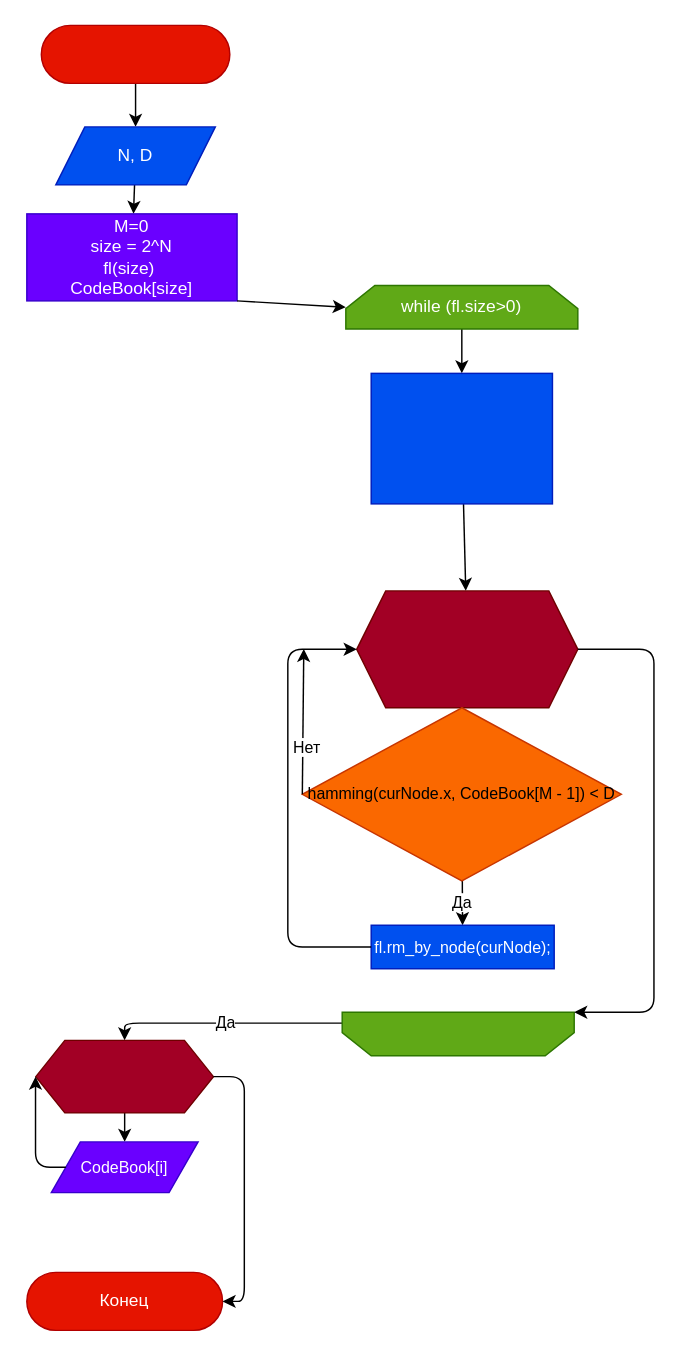
Image size: 692x1356. Some labels were removed from this diagram. Each missing label, with the box of its shape:
curNode:= fl.getFirst, NULL, curNode=curNode.getNext: (355, 589, 578, 708)
i:= 0, M: (34, 1039, 213, 1113)
zero = fl.head->x; CodeBook[M] = zero fl.rm_first(); M++;: (370, 372, 552, 504)
Начало: (40, 24, 230, 83)
